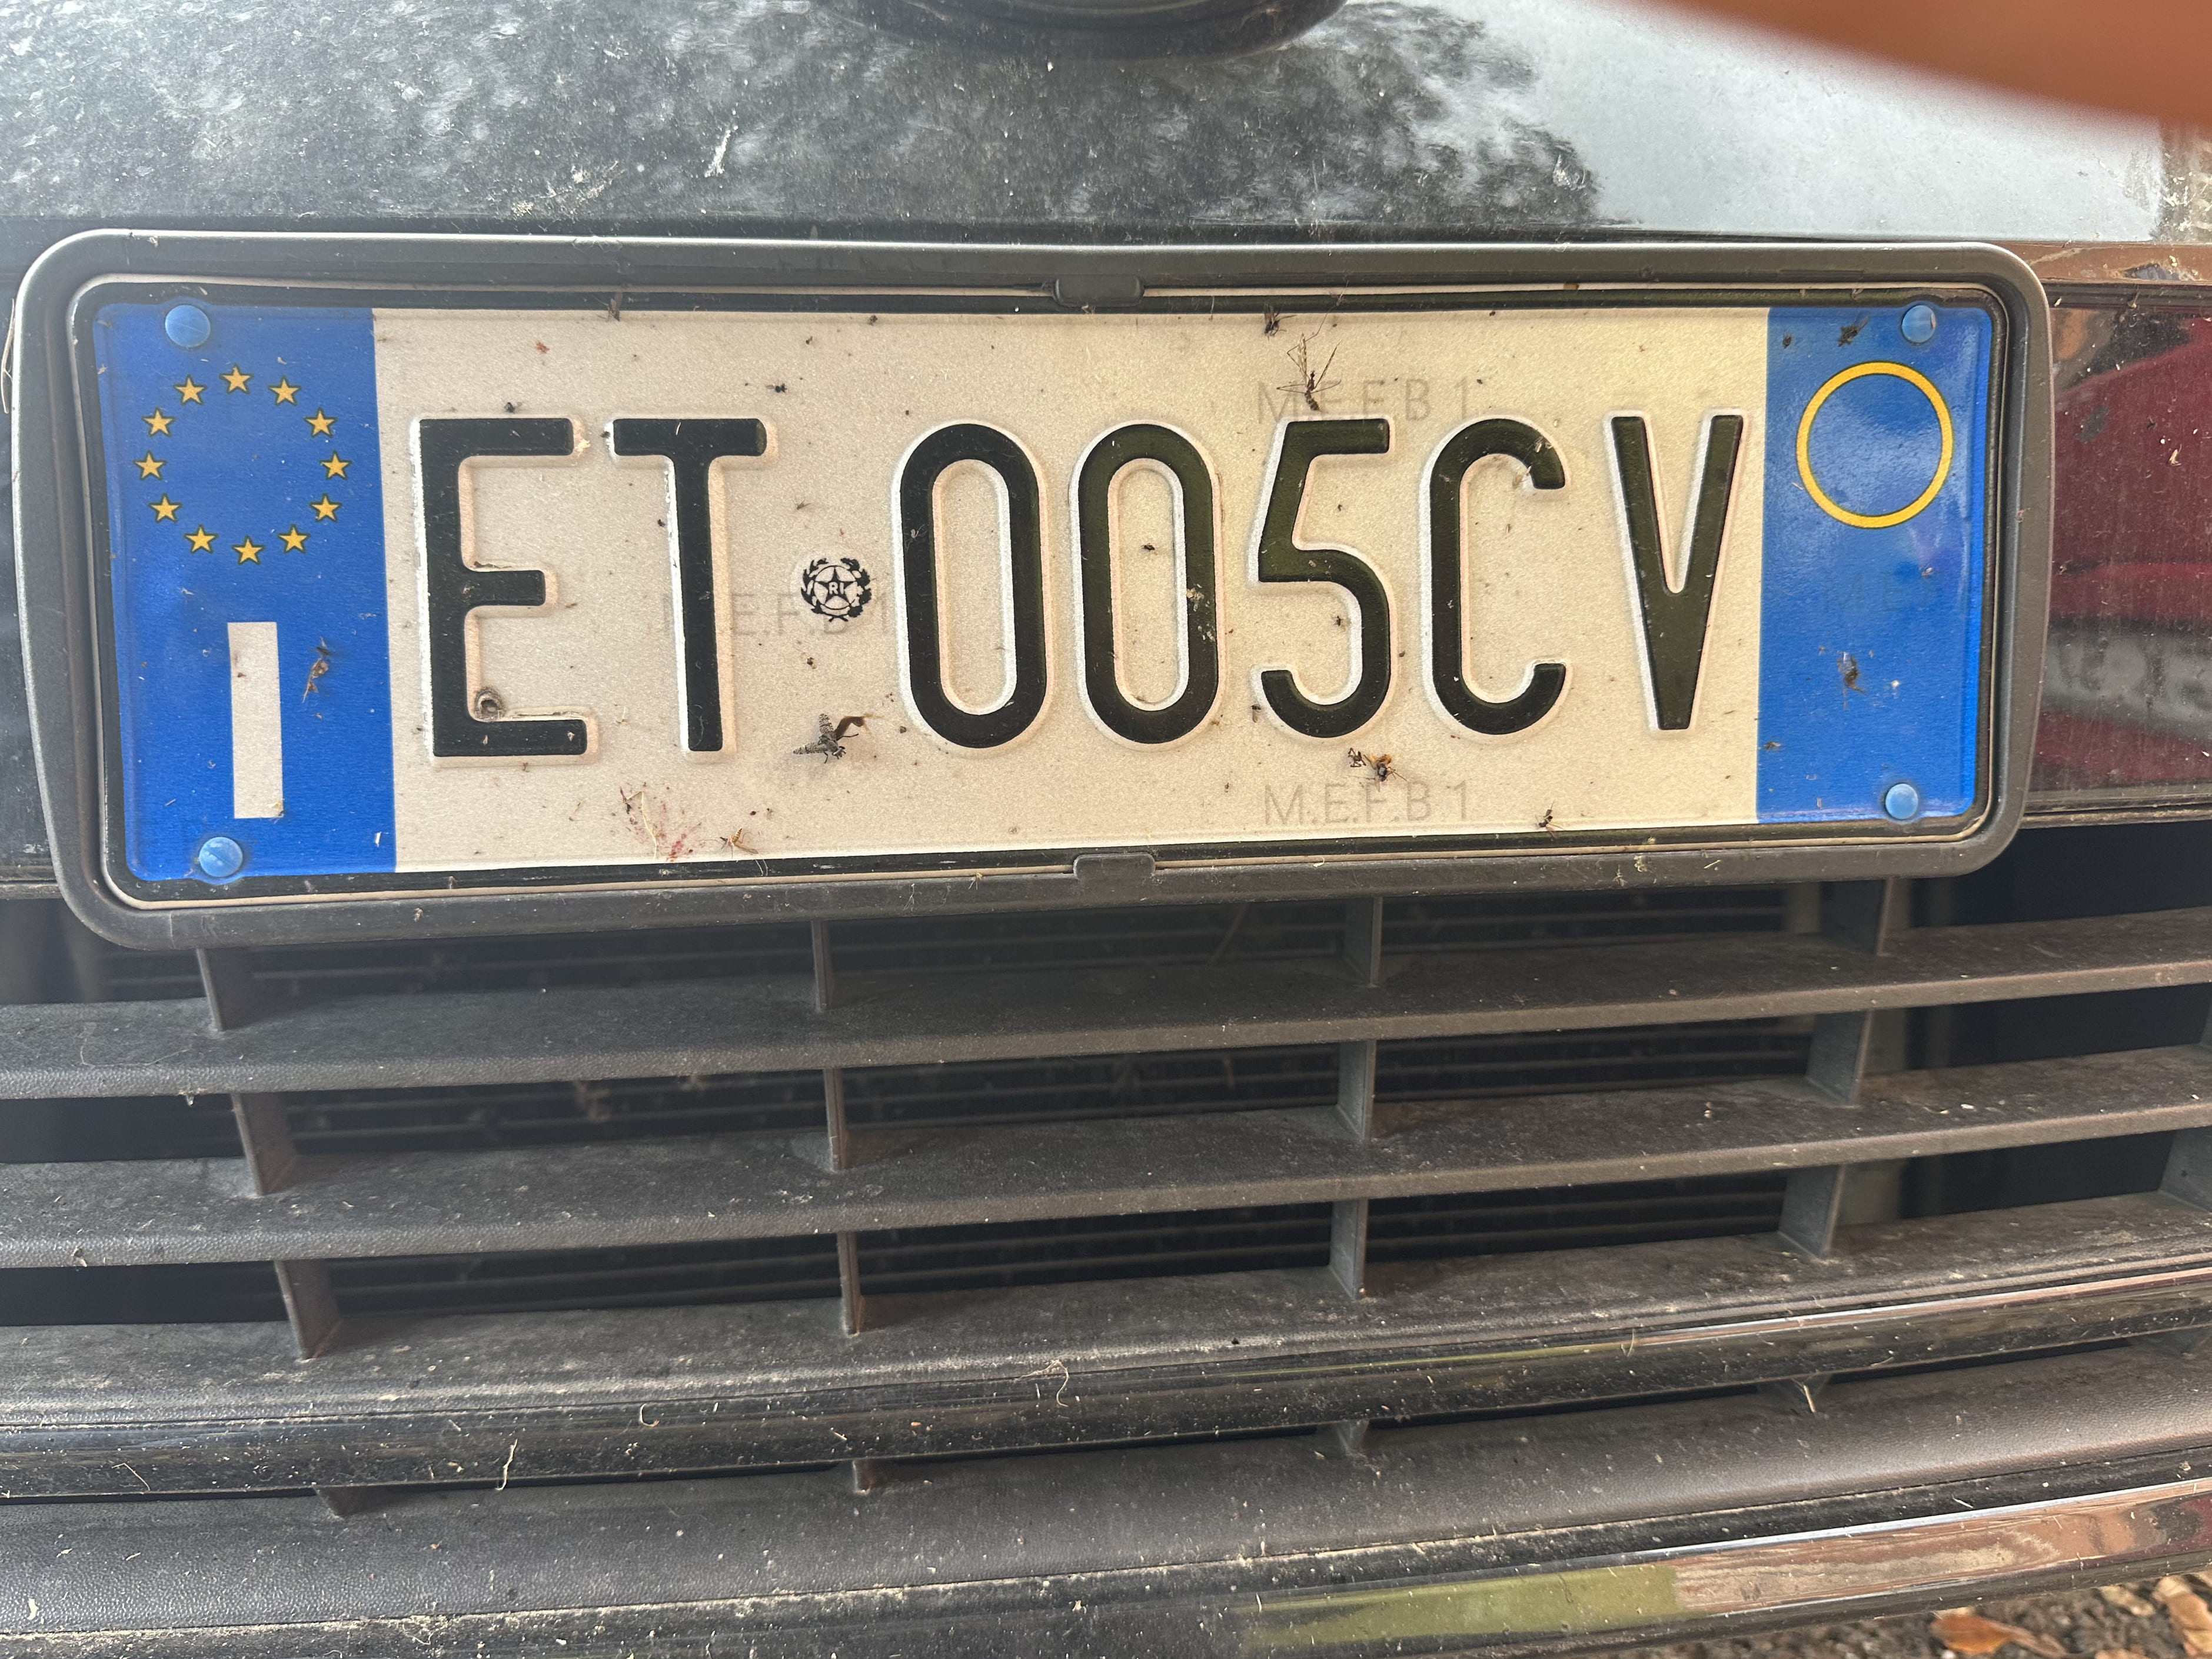license-plate: (54, 274, 2011, 909)
